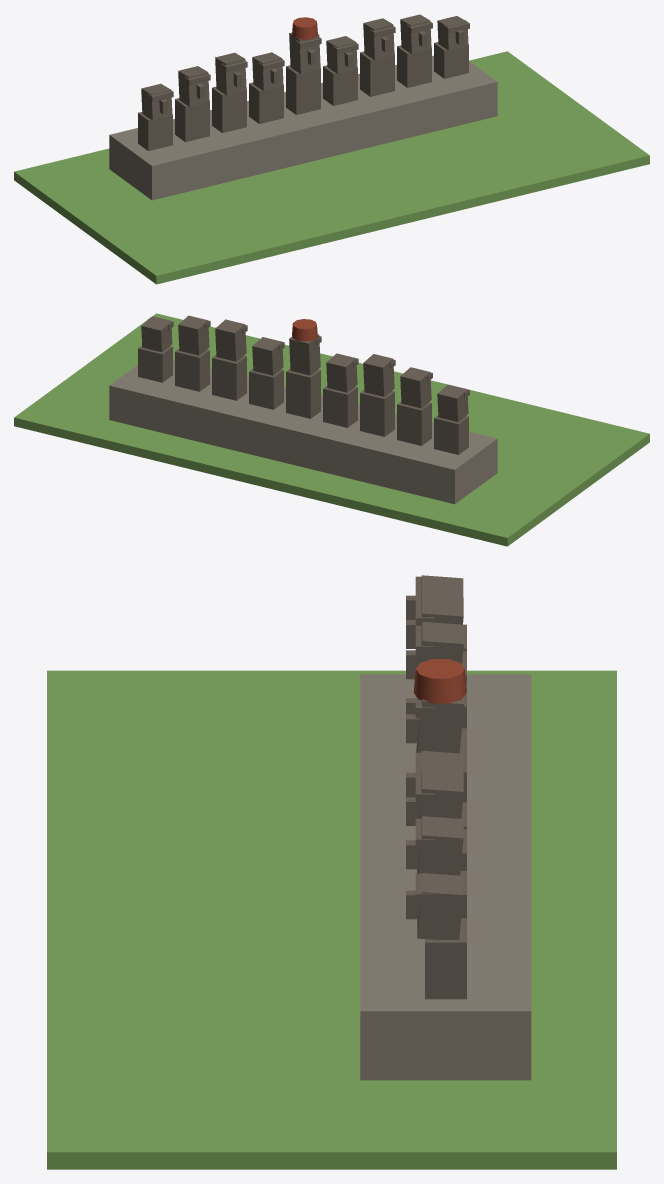
The picture shows the model from 3 angles, top to bottom: view 1: azimuth 30°, elevation 25°; view 2: azimuth 150°, elevation 25°; view 3: azimuth 270°, elevation 25°; orthographic projection. The views are drawn at different scales.
Size of the model in its own units: 60 by 15.1 by 30.
